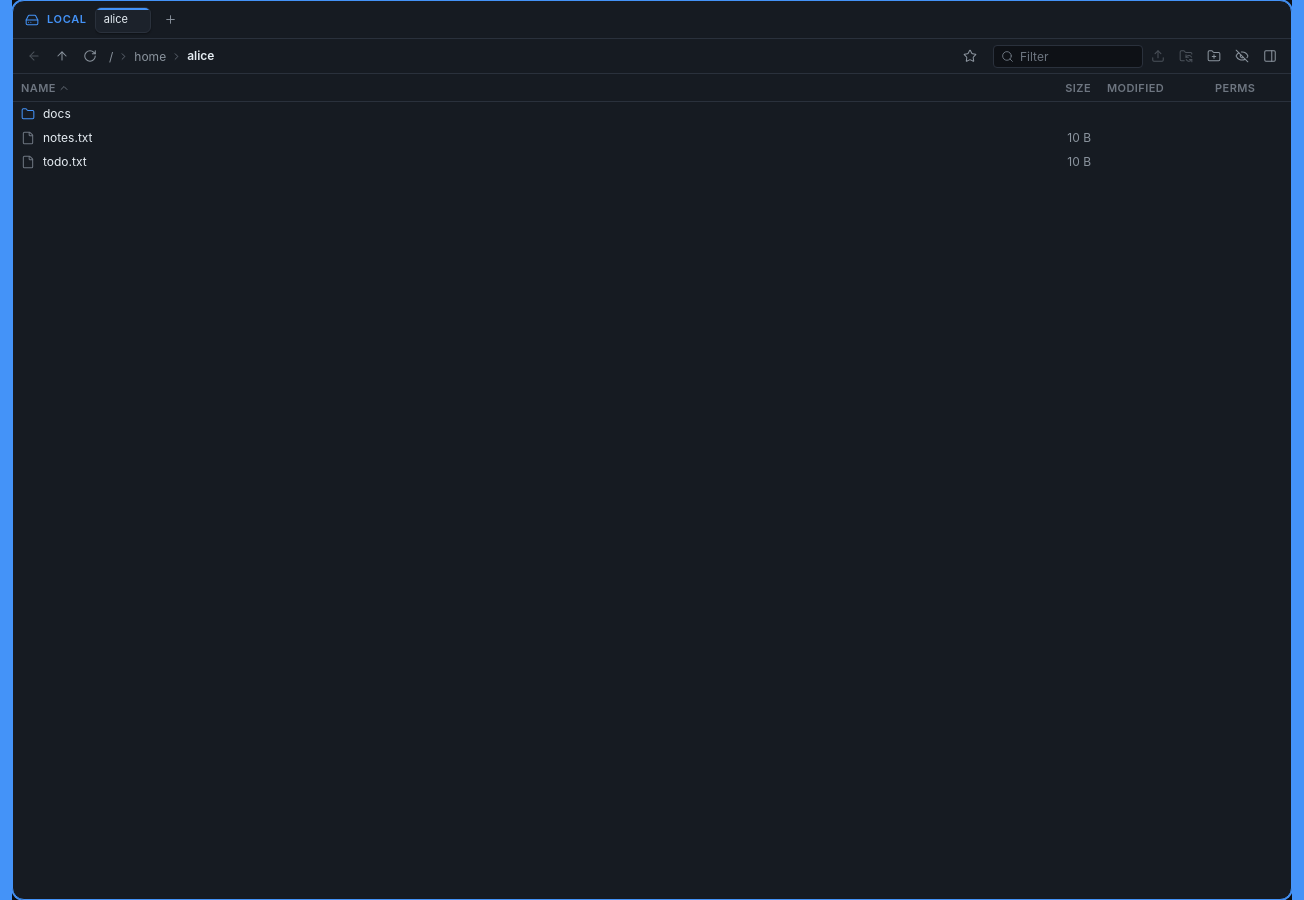
Test: Pane › file operations › offers the file operations in the context menu, grouped
Expected: the text "notes.txt" is shown, [43, 129, 92, 147]
Right-click the text "docs" at point(57, 114), box [43, 105, 71, 123]
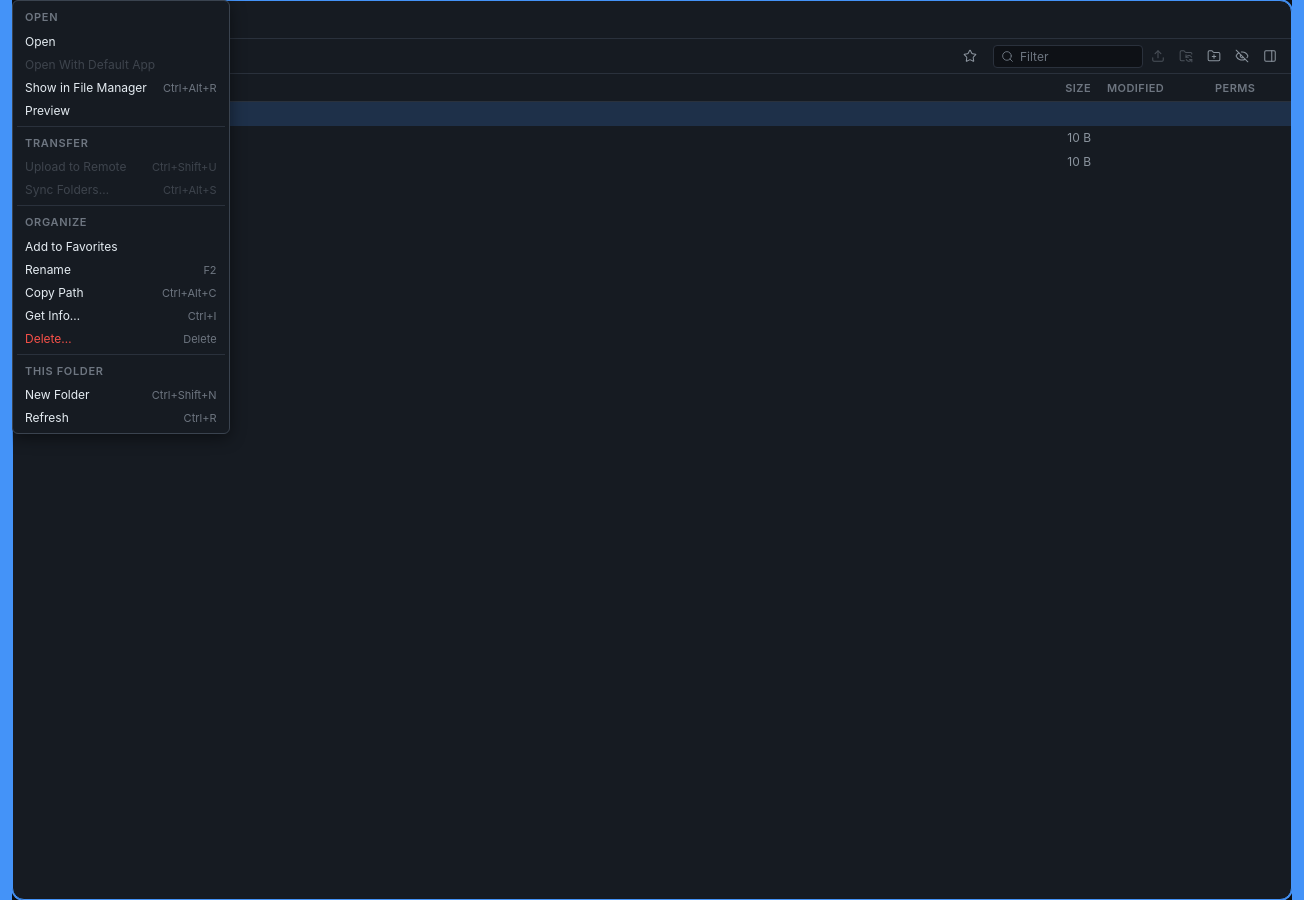
Click the menu item "Rename F2" at point(121, 269), box [17, 258, 225, 280]
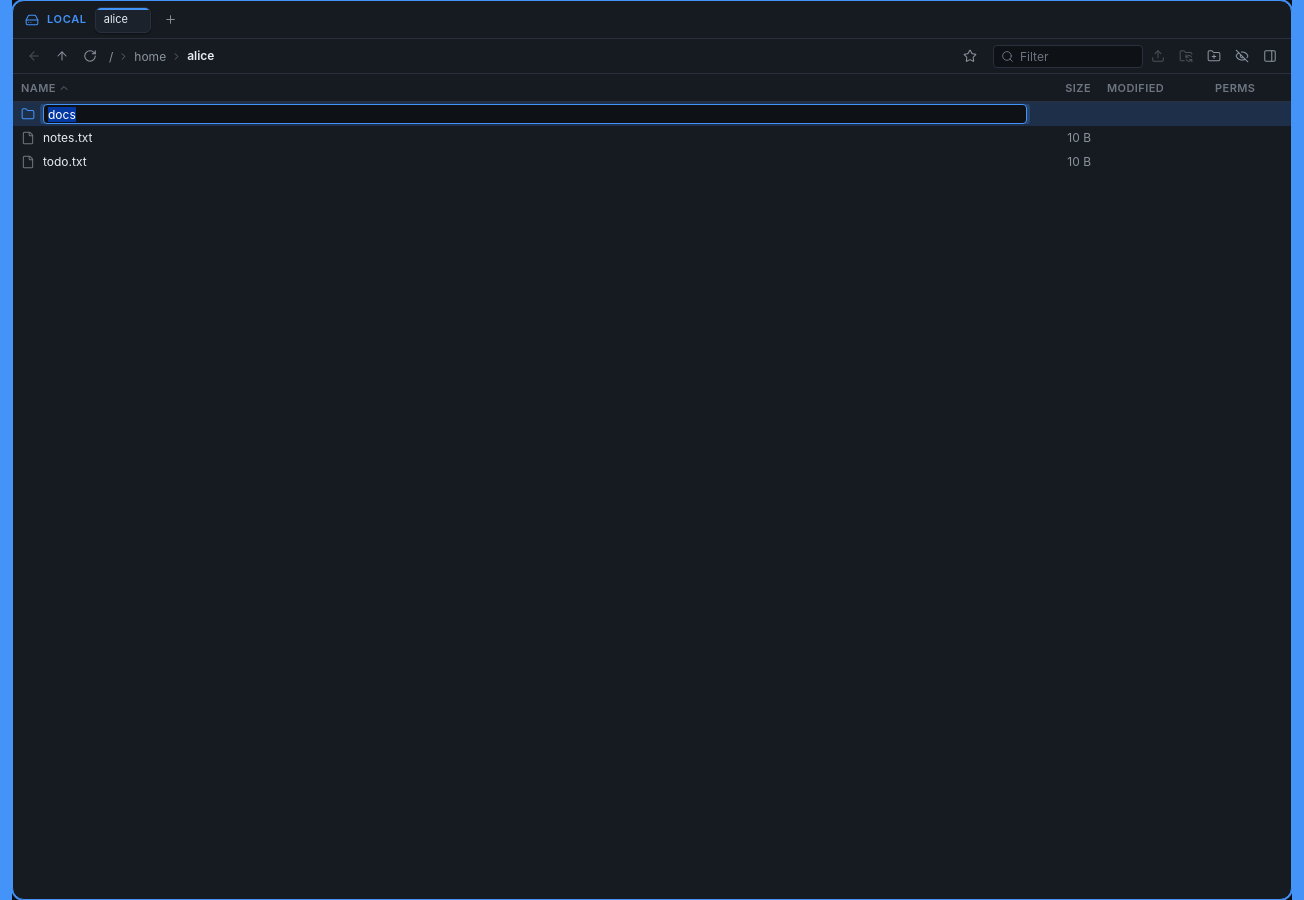
Expected: the field named "Rename docs" is shown, [43, 104, 1027, 124]
